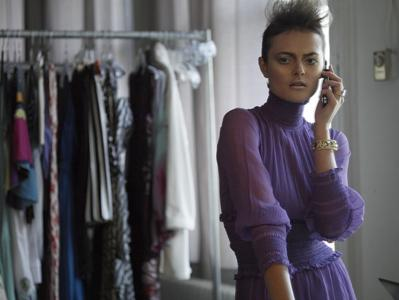person: (211, 6, 362, 300)
